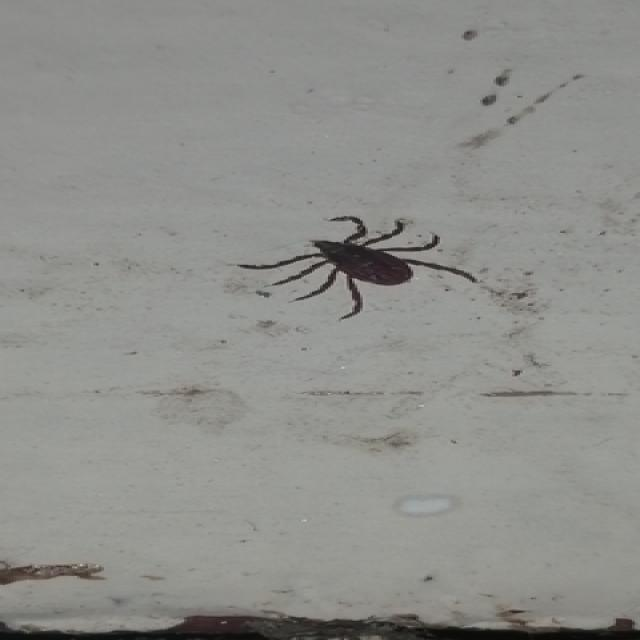Rhipicephalus Sanguineus-F: (237, 213, 485, 319)
